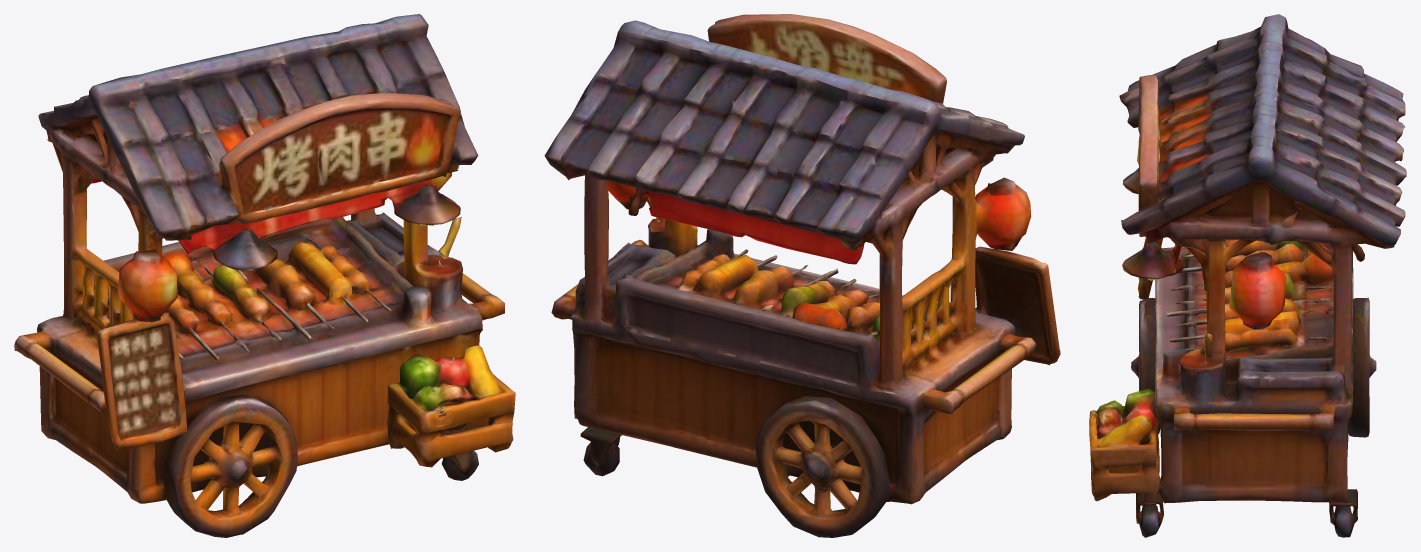
Rendered from stall-bbq-lite.glb.
3 renders of one model, left to right at view 1: azimuth 30°, elevation 25°; view 2: azimuth 150°, elevation 25°; view 3: azimuth 270°, elevation 25°, orthographic. The views are drawn at different scales.
Visible parts, largest first — view 1: tripo_node_701c9356-8149-4c03-a01c-1737c9c537ee; view 2: tripo_node_701c9356-8149-4c03-a01c-1737c9c537ee; view 3: tripo_node_701c9356-8149-4c03-a01c-1737c9c537ee.
Part boxes in pixels (left/top/right/bottom): tripo_node_701c9356-8149-4c03-a01c-1737c9c537ee: left=14, top=14, right=515, bottom=537; tripo_node_701c9356-8149-4c03-a01c-1737c9c537ee: left=544, top=14, right=1060, bottom=537; tripo_node_701c9356-8149-4c03-a01c-1737c9c537ee: left=1089, top=14, right=1406, bottom=537.
Size of the model in its own units: 0.9951 by 0.9677 by 0.7141.
Materials: 1 (1 with a texture image).
